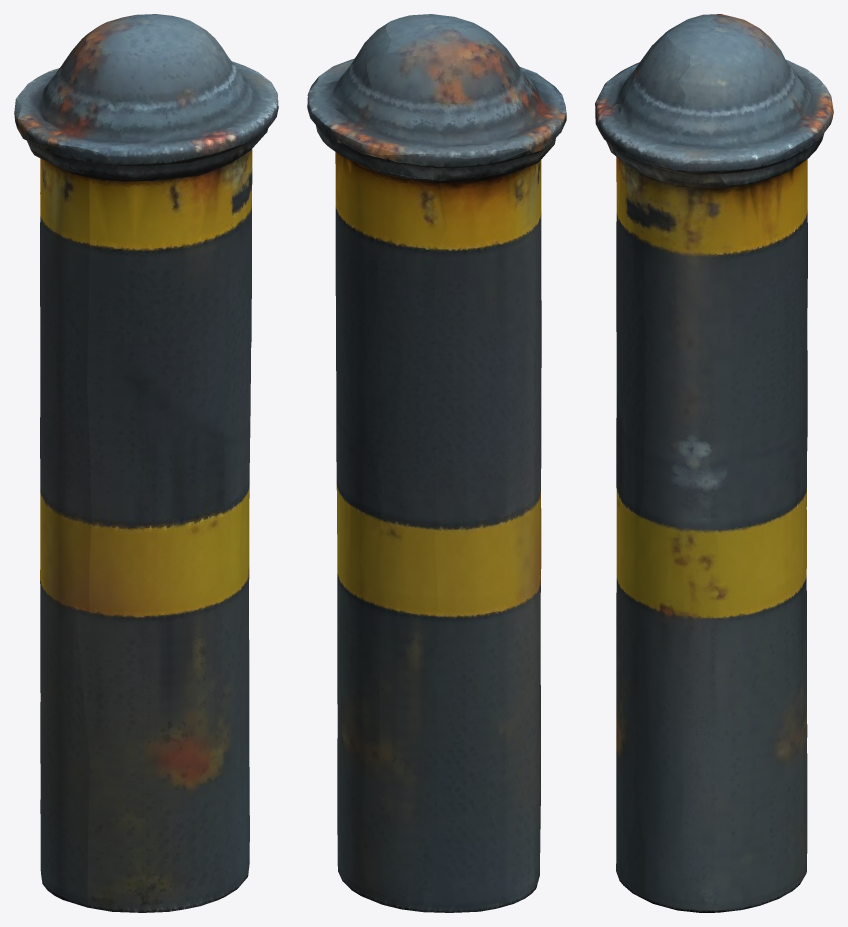
3 views of the same model, side by side, from view 1: azimuth 30°, elevation 25°; view 2: azimuth 150°, elevation 25°; view 3: azimuth 270°, elevation 25° (orthographic).
Parts seen in each view (by area): view 1: bollard-street; view 2: bollard-street; view 3: bollard-street.
Part boxes in pixels (x1=…): bollard-street: x1=14, y1=14, x2=278, y2=912; bollard-street: x1=307, y1=14, x2=566, y2=912; bollard-street: x1=595, y1=14, x2=833, y2=912.
Size of the model in its own units: 0.2598 by 0.9001 by 0.2316.
1 material, 1 textured.
